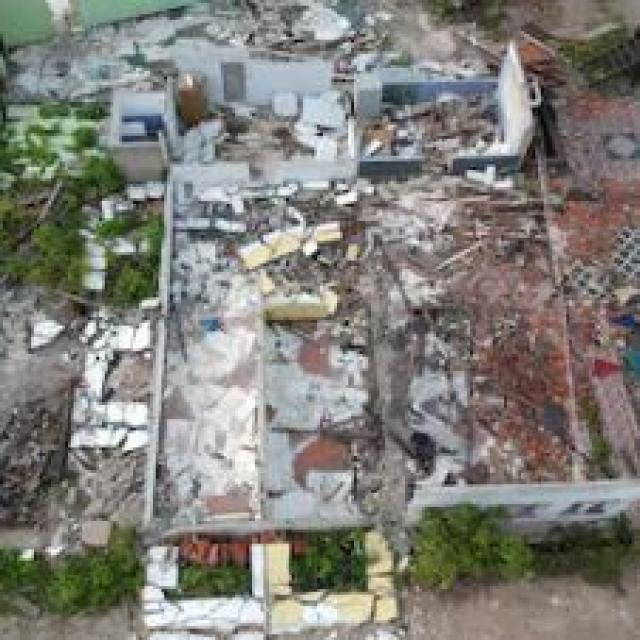collapsed_building: (102, 85, 572, 530)
